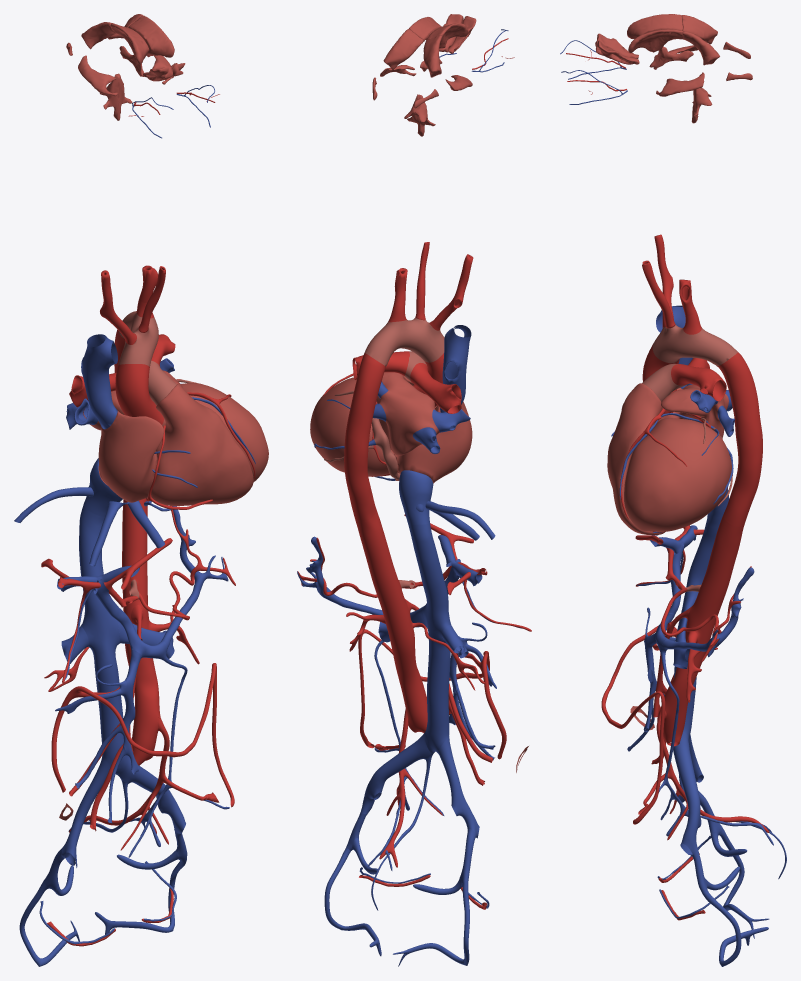
Rendered from adult_female.cardiovascular.LOD0.glb.
The picture shows the model from 3 angles, left to right: view 1: azimuth 30°, elevation 25°; view 2: azimuth 150°, elevation 25°; view 3: azimuth 270°, elevation 25°; orthographic projection. The views are drawn at different scales.
Visible parts, largest first — view 1: ADULT.FEMALE.CARDIOVASCULAR.RIGHT_VENTRICLE, ADULT.FEMALE.CARDIOVASCULAR.INFERIOR_VENA_CAVA_B, ADULT.FEMALE.CARDIOVASCULAR.DESCENDING_AORTA_B, ADULT.FEMALE.CARDIOVASCULAR.RIGHT_CARDIAC_ATRIUM, ADULT.FEMALE.CARDIOVASCULAR.SUPERIOR_VENA_CAVA, ADULT.FEMALE.CARDIOVASCULAR.LEFT_VENTRICLE, ADULT.FEMALE.CARDIOVASCULAR.MARGINAL_ARTERY_OF_DRUMMOND, ADULT.FEMALE.CARDIOVASCULAR.ASCENDING_AORTA, ADULT.FEMALE.CARDIOVASCULAR.SPLENIC_VEIN, ADULT.FEMALE.CARDIOVASCULAR.ANTERIOR_HORN_OF_LATERAL_VENTRIC (×2), ADULT.FEMALE.CARDIOVASCULAR.AORTIC_ARCH, ADULT.FEMALE.CARDIOVASCULAR.COMMON_ILIAC_VEIN.L (+16 smaller); view 2: ADULT.FEMALE.CARDIOVASCULAR.DESCENDING_AORTA_B, ADULT.FEMALE.CARDIOVASCULAR.INFERIOR_VENA_CAVA_B, ADULT.FEMALE.CARDIOVASCULAR.DESCENDING_AORTA_A, ADULT.FEMALE.CARDIOVASCULAR.LEFT_CARDIAC_ATRIUM, ADULT.FEMALE.CARDIOVASCULAR.LEFT_VENTRICLE, ADULT.FEMALE.CARDIOVASCULAR.RIGHT_CARDIAC_ATRIUM, ADULT.FEMALE.CARDIOVASCULAR.AORTIC_ARCH, ADULT.FEMALE.CARDIOVASCULAR.INFERIOR_VENA_CAVA_A, ADULT.FEMALE.CARDIOVASCULAR.COMMON_ILIAC_VEIN.L, ADULT.FEMALE.CARDIOVASCULAR.SUPERIOR_VENA_CAVA, ADULT.FEMALE.CARDIOVASCULAR.MARGINAL_ARTERY_OF_DRUMMOND, ADULT.FEMALE.CARDIOVASCULAR.PULMONARY_ARTERY.R (+11 smaller); view 3: ADULT.FEMALE.CARDIOVASCULAR.LEFT_VENTRICLE, ADULT.FEMALE.CARDIOVASCULAR.DESCENDING_AORTA_B, ADULT.FEMALE.CARDIOVASCULAR.DESCENDING_AORTA_A, ADULT.FEMALE.CARDIOVASCULAR.RIGHT_VENTRICLE, ADULT.FEMALE.CARDIOVASCULAR.AORTIC_ARCH, ADULT.FEMALE.CARDIOVASCULAR.INFERIOR_VENA_CAVA_B, ADULT.FEMALE.CARDIOVASCULAR.COMMON_ILIAC_VEIN.L, ADULT.FEMALE.CARDIOVASCULAR.ANTERIOR_HORN_OF_LATERAL_VENTRIC (×2), ADULT.FEMALE.CARDIOVASCULAR.MARGINAL_ARTERY_OF_DRUMMOND, ADULT.FEMALE.CARDIOVASCULAR.SPLENIC_VEIN, ADULT.FEMALE.CARDIOVASCULAR.LEFT_CARDIAC_ATRIUM, ADULT.FEMALE.CARDIOVASCULAR.PULMONARY_ARTERY.L (+13 smaller).
Part boxes in pixels (left/top/right/bottom): ADULT.FEMALE.CARDIOVASCULAR.RIGHT_VENTRICLE: left=147, top=384, right=253, bottom=505; ADULT.FEMALE.CARDIOVASCULAR.INFERIOR_VENA_CAVA_B: left=79, top=505, right=128, bottom=775; ADULT.FEMALE.CARDIOVASCULAR.DESCENDING_AORTA_B: left=122, top=498, right=160, bottom=765; ADULT.FEMALE.CARDIOVASCULAR.RIGHT_CARDIAC_ATRIUM: left=98, top=411, right=164, bottom=502; ADULT.FEMALE.CARDIOVASCULAR.SUPERIOR_VENA_CAVA: left=81, top=334, right=117, bottom=429; ADULT.FEMALE.CARDIOVASCULAR.LEFT_VENTRICLE: left=181, top=383, right=268, bottom=482; ADULT.FEMALE.CARDIOVASCULAR.MARGINAL_ARTERY_OF_DRUMMOND: left=51, top=663, right=234, bottom=807; ADULT.FEMALE.CARDIOVASCULAR.ASCENDING_AORTA: left=115, top=364, right=163, bottom=424; ADULT.FEMALE.CARDIOVASCULAR.SPLENIC_VEIN: left=132, top=506, right=228, bottom=659; ADULT.FEMALE.CARDIOVASCULAR.ANTERIOR_HORN_OF_LATERAL_VENTRIC (×2): left=110, top=15, right=174, bottom=64; ADULT.FEMALE.CARDIOVASCULAR.AORTIC_ARCH: left=118, top=311, right=158, bottom=366; ADULT.FEMALE.CARDIOVASCULAR.COMMON_ILIAC_VEIN.L: left=118, top=756, right=185, bottom=834; ADULT.FEMALE.CARDIOVASCULAR.DESCENDING_AORTA_B: left=355, top=510, right=427, bottom=732; ADULT.FEMALE.CARDIOVASCULAR.INFERIOR_VENA_CAVA_B: left=408, top=523, right=451, bottom=753; ADULT.FEMALE.CARDIOVASCULAR.DESCENDING_AORTA_A: left=344, top=353, right=385, bottom=521; ADULT.FEMALE.CARDIOVASCULAR.LEFT_CARDIAC_ATRIUM: left=376, top=372, right=439, bottom=455; ADULT.FEMALE.CARDIOVASCULAR.LEFT_VENTRICLE: left=310, top=377, right=394, bottom=476; ADULT.FEMALE.CARDIOVASCULAR.RIGHT_CARDIAC_ATRIUM: left=394, top=401, right=472, bottom=483; ADULT.FEMALE.CARDIOVASCULAR.AORTIC_ARCH: left=364, top=317, right=444, bottom=366; ADULT.FEMALE.CARDIOVASCULAR.INFERIOR_VENA_CAVA_A: left=399, top=470, right=433, bottom=524; ADULT.FEMALE.CARDIOVASCULAR.COMMON_ILIAC_VEIN.L: left=360, top=732, right=430, bottom=814; ADULT.FEMALE.CARDIOVASCULAR.SUPERIOR_VENA_CAVA: left=440, top=325, right=471, bottom=412; ADULT.FEMALE.CARDIOVASCULAR.MARGINAL_ARTERY_OF_DRUMMOND: left=358, top=629, right=506, bottom=759; ADULT.FEMALE.CARDIOVASCULAR.PULMONARY_ARTERY.R: left=410, top=363, right=461, bottom=413; ADULT.FEMALE.CARDIOVASCULAR.LEFT_VENTRICLE: left=624, top=418, right=731, bottom=531; ADULT.FEMALE.CARDIOVASCULAR.DESCENDING_AORTA_B: left=663, top=515, right=744, bottom=746; ADULT.FEMALE.CARDIOVASCULAR.DESCENDING_AORTA_A: left=717, top=352, right=762, bottom=526; ADULT.FEMALE.CARDIOVASCULAR.RIGHT_VENTRICLE: left=607, top=383, right=665, bottom=534; ADULT.FEMALE.CARDIOVASCULAR.AORTIC_ARCH: left=652, top=325, right=737, bottom=366; ADULT.FEMALE.CARDIOVASCULAR.INFERIOR_VENA_CAVA_B: left=674, top=498, right=729, bottom=739; ADULT.FEMALE.CARDIOVASCULAR.COMMON_ILIAC_VEIN.L: left=673, top=731, right=701, bottom=854; ADULT.FEMALE.CARDIOVASCULAR.ANTERIOR_HORN_OF_LATERAL_VENTRIC (×2): left=627, top=14, right=683, bottom=53; ADULT.FEMALE.CARDIOVASCULAR.MARGINAL_ARTERY_OF_DRUMMOND: left=601, top=625, right=677, bottom=824; ADULT.FEMALE.CARDIOVASCULAR.SPLENIC_VEIN: left=655, top=567, right=754, bottom=657; ADULT.FEMALE.CARDIOVASCULAR.LEFT_CARDIAC_ATRIUM: left=661, top=384, right=728, bottom=438; ADULT.FEMALE.CARDIOVASCULAR.PULMONARY_ARTERY.L: left=671, top=364, right=726, bottom=401.
Bounding box in the file's own units: 0.1971 × 0.8285 × 0.1848.
